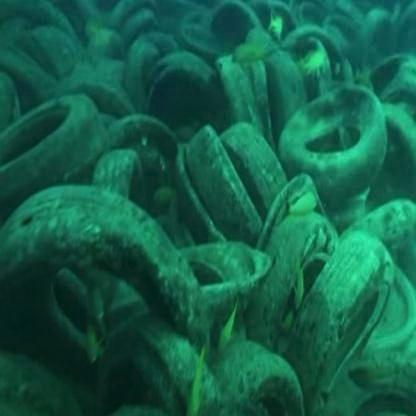tire: (41, 178, 224, 416), (272, 52, 414, 209), (192, 90, 297, 217), (297, 228, 389, 369), (172, 213, 285, 318), (135, 66, 221, 156), (2, 96, 82, 184)
